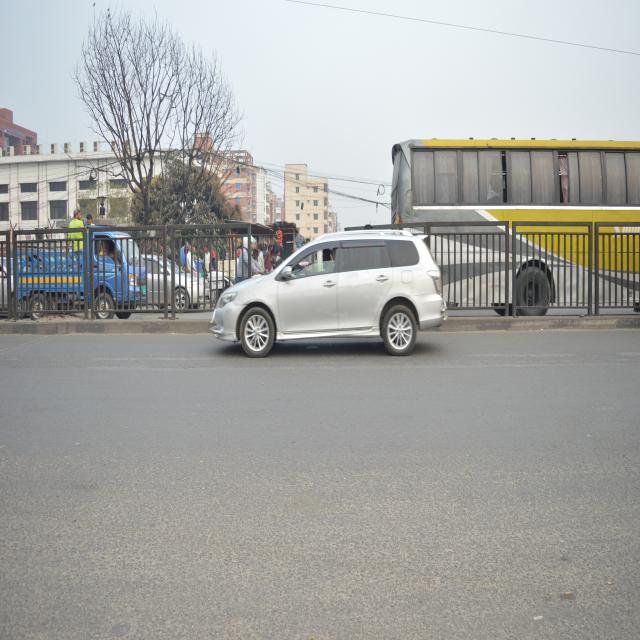bus: (378, 123, 640, 362)
car: (192, 221, 457, 374), (138, 236, 202, 327)
pickup-van: (7, 217, 149, 336)
